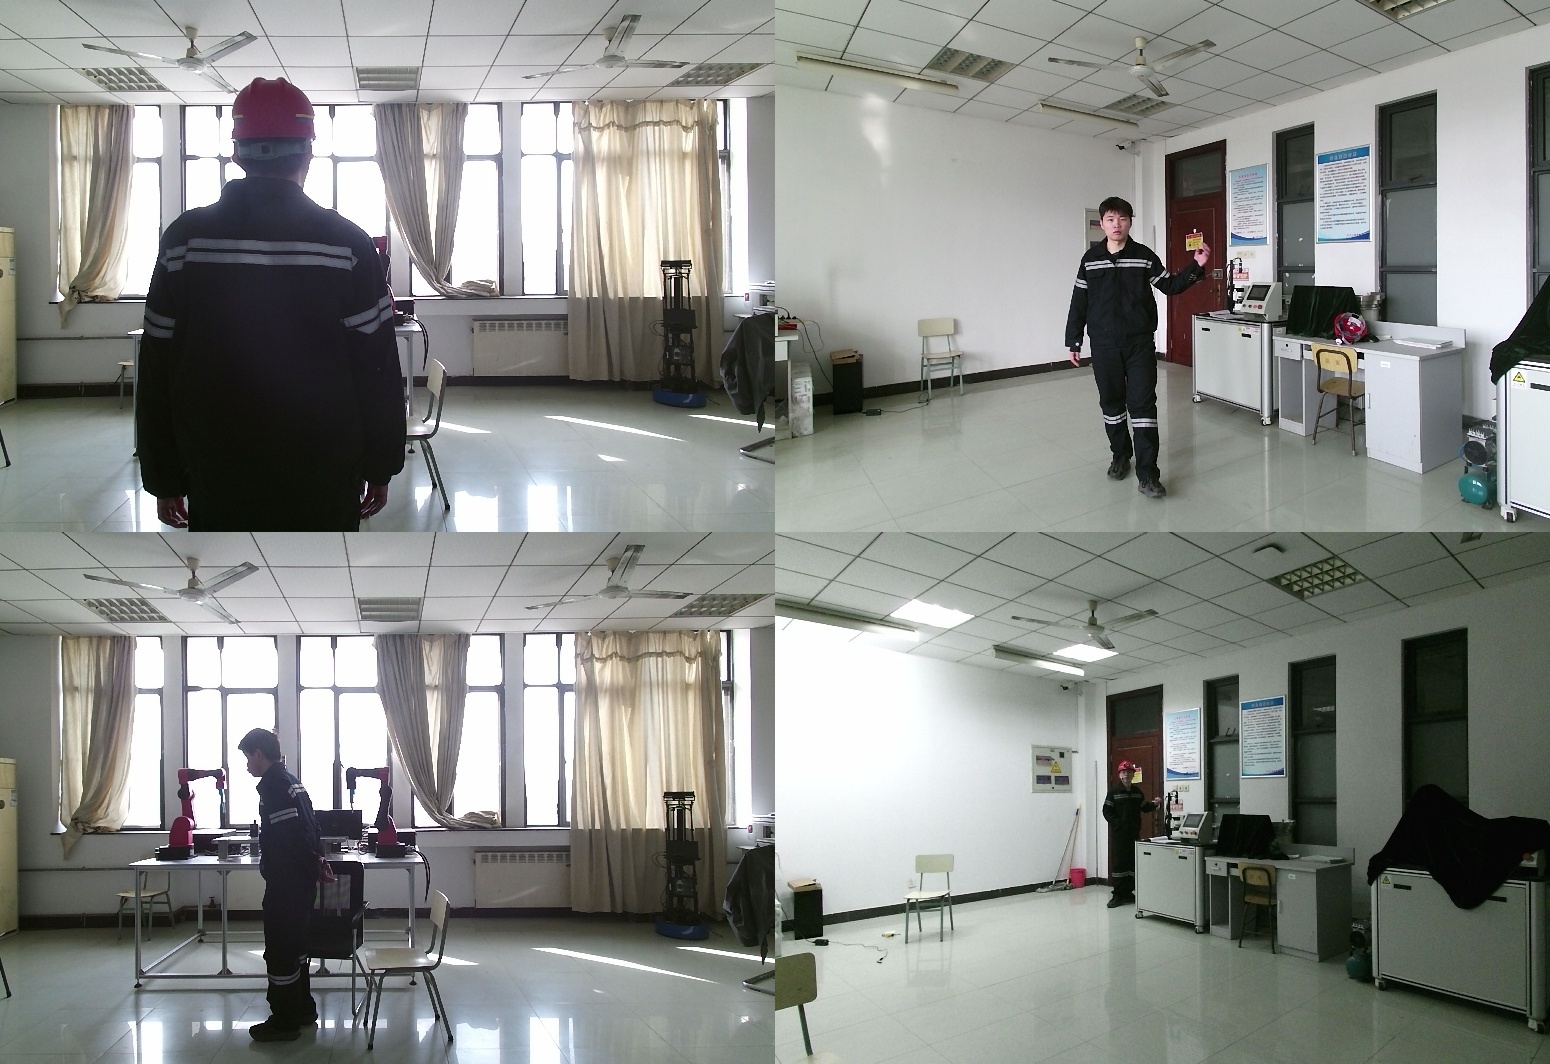person: (136, 79, 409, 532), (1047, 197, 1231, 492), (238, 728, 336, 1039), (1104, 761, 1167, 913)
